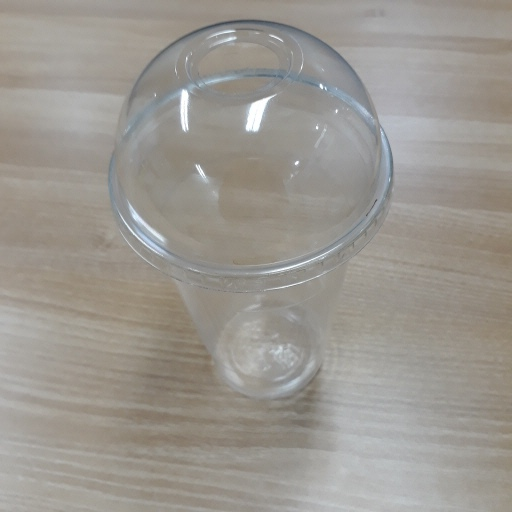Plastic_2: (101, 18, 395, 401)
